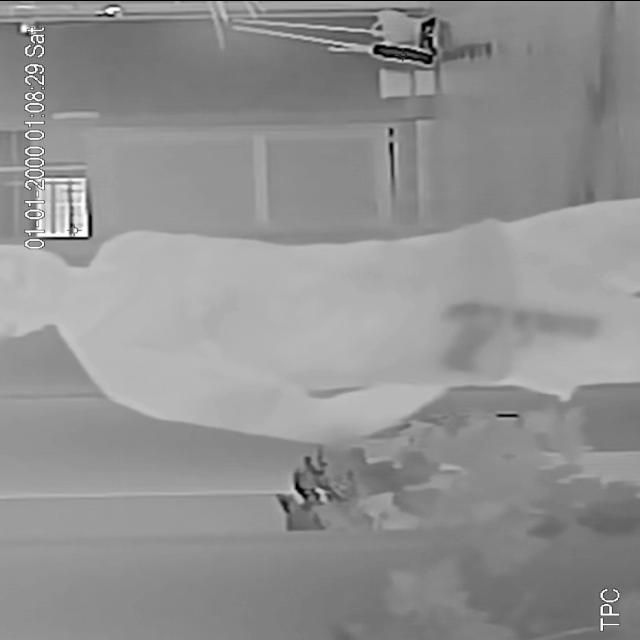Weapon: (429, 291, 613, 378)
